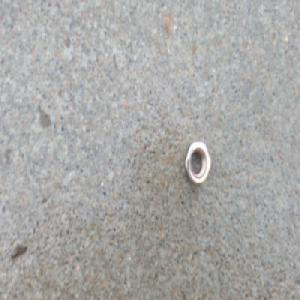Nut: (182, 141, 210, 188)
